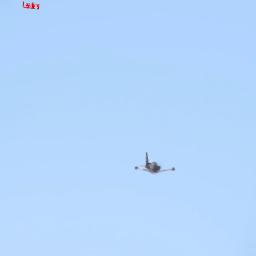Airplane: (134, 151, 176, 175)
